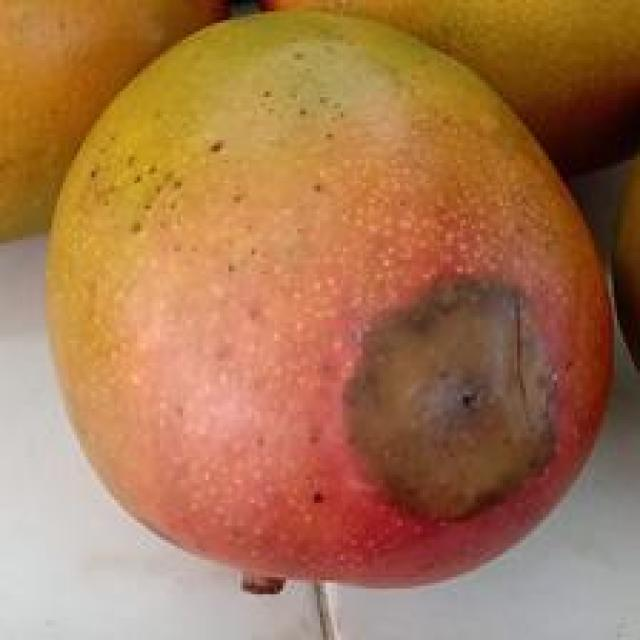Bad_Mango: (48, 12, 611, 584)
